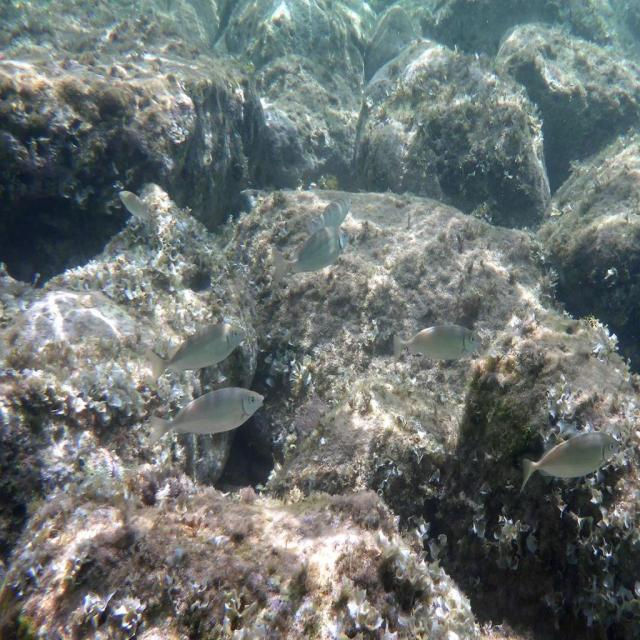Sokar Baligi: (138, 379, 268, 459)
